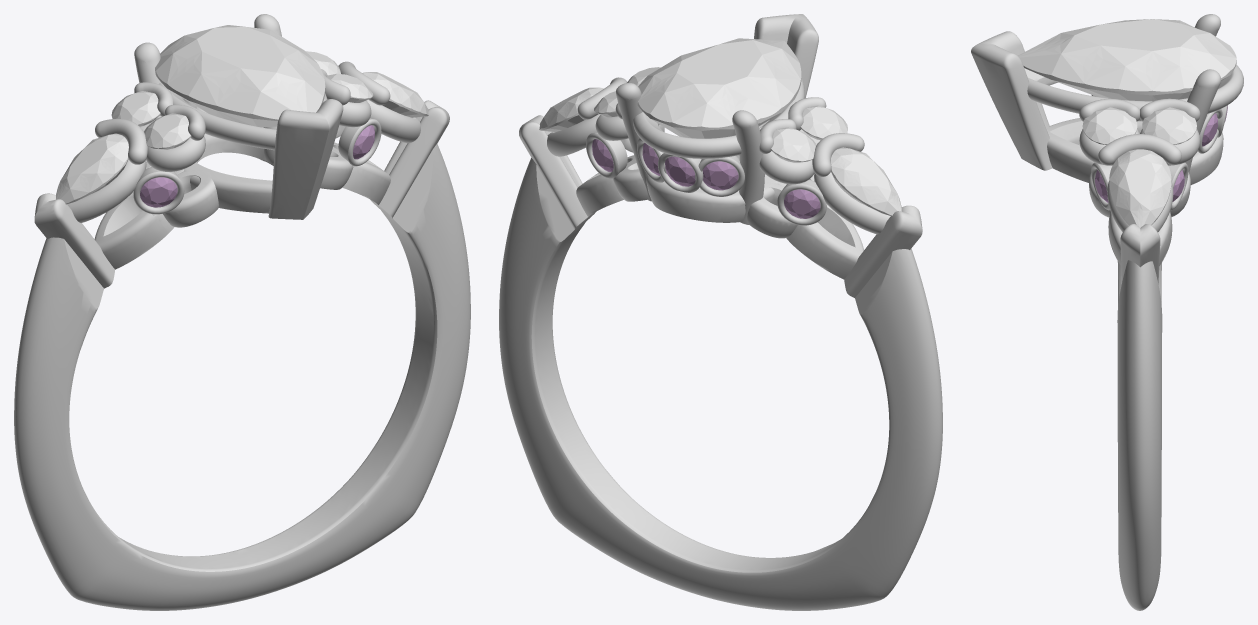
Rendered from ChrisVringv3.glb.
The picture shows the model from 3 angles, left to right: view 1: azimuth 30°, elevation 25°; view 2: azimuth 150°, elevation 25°; view 3: azimuth 270°, elevation 25°; orthographic projection. The views are drawn at different scales.
Parts seen in each view (by area): view 1: Chris PT for 3d model v4, Chris dia for 3d model.001, Chris dia for 3d model.002, Chris dia for 3d model.005, Chris dia for 3d model, Chris dia for 3d model.006, Chris sapphire for 3d model v4.004, Chris dia for 3d model.003; view 2: Chris PT for 3d model v4, Chris dia for 3d model.001, Chris dia for 3d model.002, Chris dia for 3d model, Chris dia for 3d model.006, Chris dia for 3d model.005, Chris sapphire for 3d model v4.006, Chris sapphire for 3d model v4.001, Chris sapphire for 3d model v4.002; view 3: Chris PT for 3d model v4, Chris dia for 3d model.001, Chris dia for 3d model, Chris dia for 3d model.003, Chris dia for 3d model.004.
Part boxes in pixels (x1,y1,x2,y2): Chris PT for 3d model v4: (14, 14, 470, 610); Chris dia for 3d model.001: (155, 25, 325, 127); Chris dia for 3d model.002: (56, 133, 128, 204); Chris dia for 3d model.005: (144, 113, 191, 149); Chris dia for 3d model: (362, 72, 428, 117); Chris dia for 3d model.006: (111, 91, 160, 126); Chris sapphire for 3d model v4.004: (140, 177, 177, 207); Chris dia for 3d model.003: (326, 73, 373, 102); Chris PT for 3d model v4: (499, 14, 942, 610); Chris dia for 3d model.001: (637, 38, 801, 138); Chris dia for 3d model.002: (831, 147, 901, 216); Chris dia for 3d model: (539, 87, 603, 132); Chris dia for 3d model.006: (770, 127, 816, 162); Chris dia for 3d model.005: (800, 105, 847, 140); Chris sapphire for 3d model v4.006: (784, 189, 820, 218); Chris sapphire for 3d model v4.001: (702, 161, 738, 190); Chris sapphire for 3d model v4.002: (665, 156, 695, 186); Chris PT for 3d model v4: (971, 14, 1243, 610); Chris dia for 3d model.001: (1018, 19, 1236, 101); Chris dia for 3d model: (1109, 149, 1171, 227); Chris dia for 3d model.003: (1082, 107, 1137, 144); Chris dia for 3d model.004: (1142, 107, 1196, 144).
Bounding box in the file's own units: 20.5 × 23.8 × 10.98.
